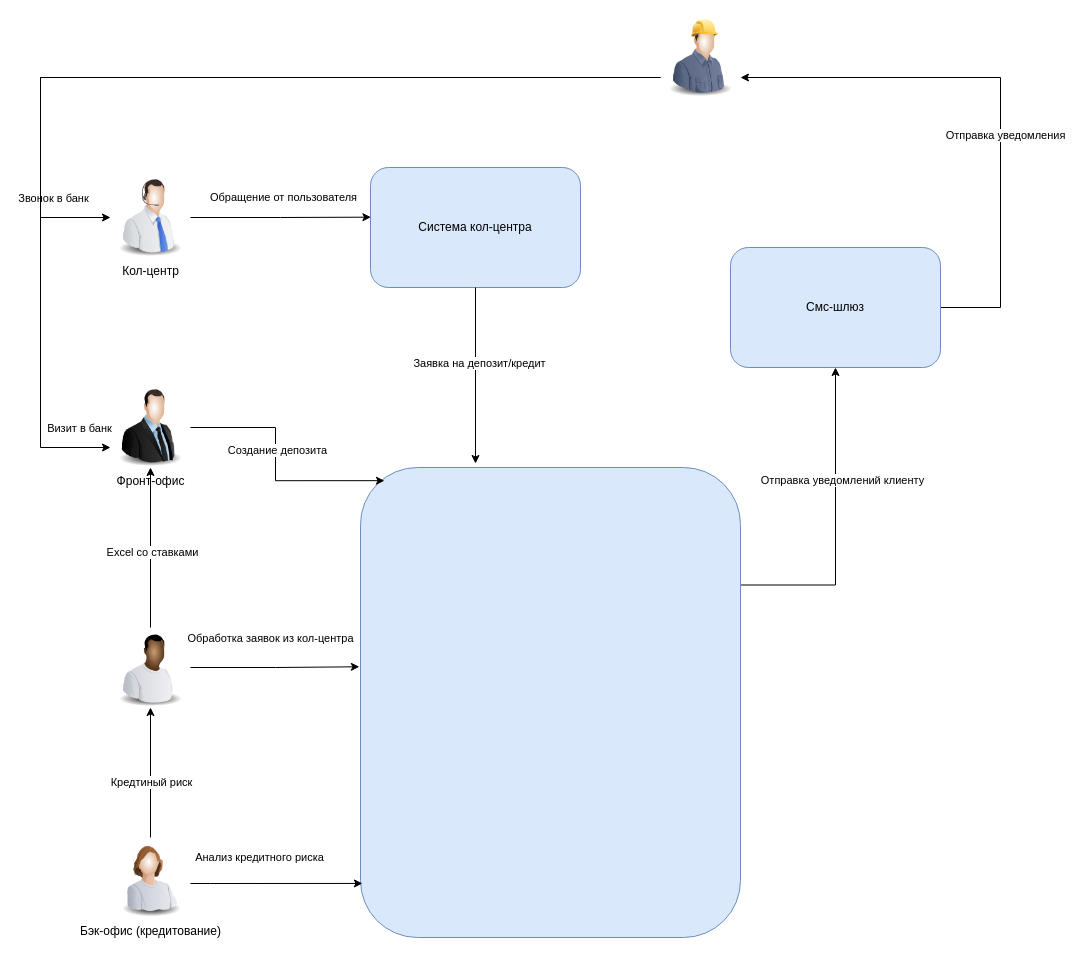
Image size: 1082x955. Some labels were removed from this diagram. The centre of each missing label's shape, as x and y in pixels:
Автоматизированная банковская система (АБС): point (550, 702)
Бэк-офис (депозиты): point (150, 667)
Клиент: point (700, 57)
